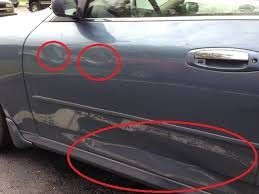Dent: (60, 107, 253, 187), (80, 47, 115, 67), (41, 43, 67, 67)
